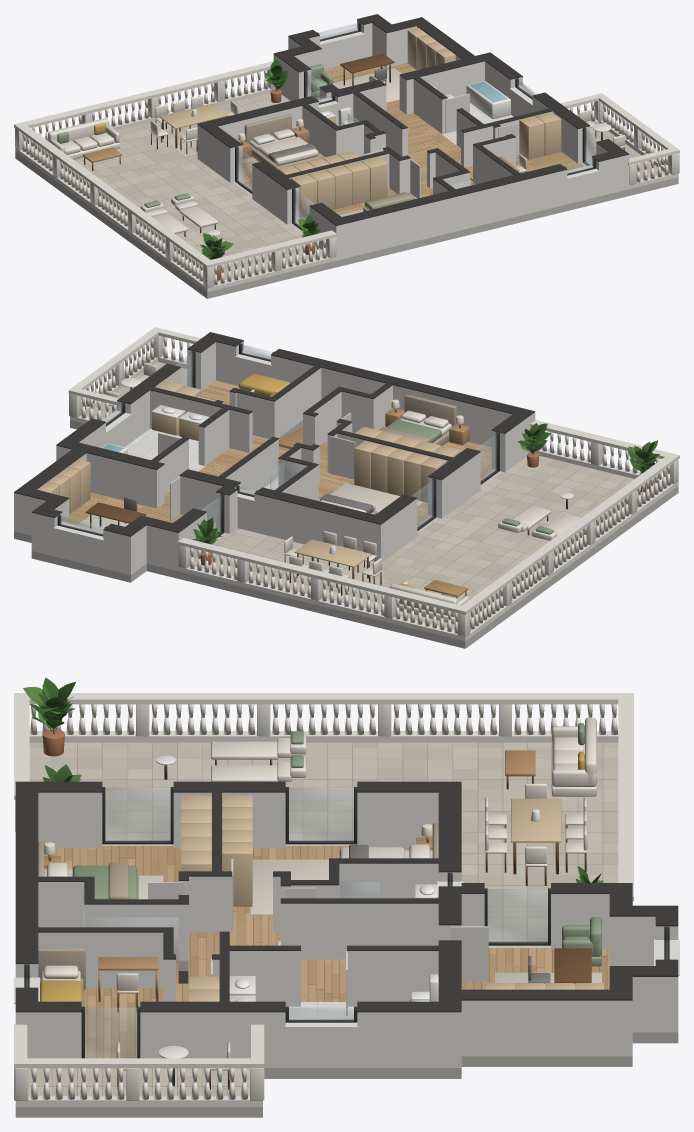
3 renders of one model, top to bottom at view 1: azimuth 30°, elevation 25°; view 2: azimuth 150°, elevation 25°; view 3: azimuth 270°, elevation 25°, orthographic. The views are drawn at different scales.
Visible parts, largest first — view 1: walls, floor, caps, corrimano balaustra, zoccolo balaustra, sill.001, Cube.104, Cube.140, Cube.073, Cube.124, sill.002, Cube.096 (+13 smaller); view 2: walls, floor, caps, corrimano balaustra, zoccolo balaustra, sill.001, Cube.140, Cube.054, Cube.087, Cube.069, Cube.083, Cube.082 (+15 smaller); view 3: walls, floor, caps, corrimano balaustra, zoccolo balaustra, Cube.004, Cube, Cube.020, sill, Cube.012, Cube.069, Cube.140 (+18 smaller).
Boxes of the visible parts, x1=… form: walls: x1=197, y1=20, x2=629, y2=260; floor: x1=15, y1=63, x2=678, y2=298; caps: x1=197, y1=14, x2=629, y2=225; corrimano balaustra: x1=14, y1=61, x2=679, y2=268; zoccolo balaustra: x1=15, y1=87, x2=678, y2=291; sill.001: x1=320, y1=34, x2=363, y2=69; Cube.104: x1=519, y1=116, x2=544, y2=159; Cube.140: x1=160, y1=103, x2=229, y2=128; Cube.073: x1=258, y1=137, x2=318, y2=165; Cube.124: x1=466, y1=80, x2=510, y2=118; sill.002: x1=567, y1=171, x2=598, y2=204; Cube.096: x1=326, y1=165, x2=352, y2=209; walls: x1=14, y1=341, x2=535, y2=574; floor: x1=14, y1=362, x2=678, y2=648; caps: x1=14, y1=332, x2=535, y2=536; corrimano balaustra: x1=68, y1=327, x2=679, y2=614; zoccolo balaustra: x1=70, y1=355, x2=678, y2=641; sill.001: x1=54, y1=529, x2=103, y2=568; Cube.140: x1=294, y1=539, x2=371, y2=567; Cube.054: x1=330, y1=436, x2=355, y2=479; Cube.087: x1=404, y1=394, x2=456, y2=426; Cube.069: x1=332, y1=483, x2=423, y2=512; Cube.083: x1=354, y1=440, x2=380, y2=488; Cube.082: x1=371, y1=444, x2=396, y2=492; walls: x1=15, y1=792, x2=678, y2=1067; floor: x1=15, y1=742, x2=678, y2=1117; caps: x1=15, y1=781, x2=678, y2=1012; corrimano balaustra: x1=14, y1=693, x2=633, y2=1068; zoccolo balaustra: x1=15, y1=731, x2=618, y2=1106; Cube.004: x1=105, y1=788, x2=170, y2=841; Cube: x1=289, y1=788, x2=353, y2=841; Cube.020: x1=487, y1=889, x2=547, y2=942; sill: x1=285, y1=1028, x2=357, y2=1067; Cube.012: x1=85, y1=1008, x2=136, y2=1057; Cube.069: x1=250, y1=859, x2=328, y2=914; Cube.140: x1=511, y1=798, x2=561, y2=842.
Bounding box in the file's own units: 17.53 × 1.76 × 13.31.
30 materials, 1 textured.
